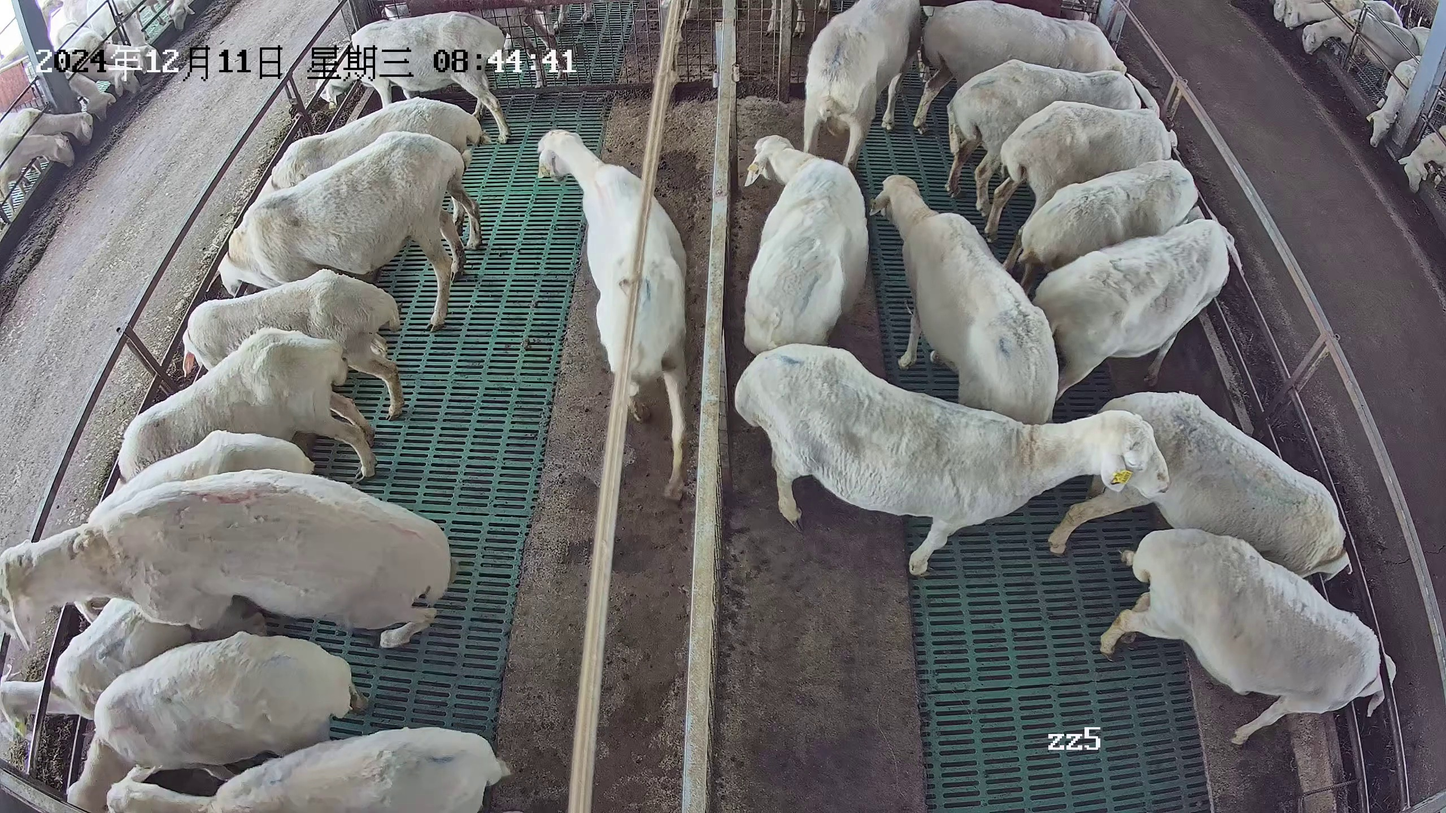Smounting: (1, 465, 455, 743)
mounted: (1, 597, 266, 738)
